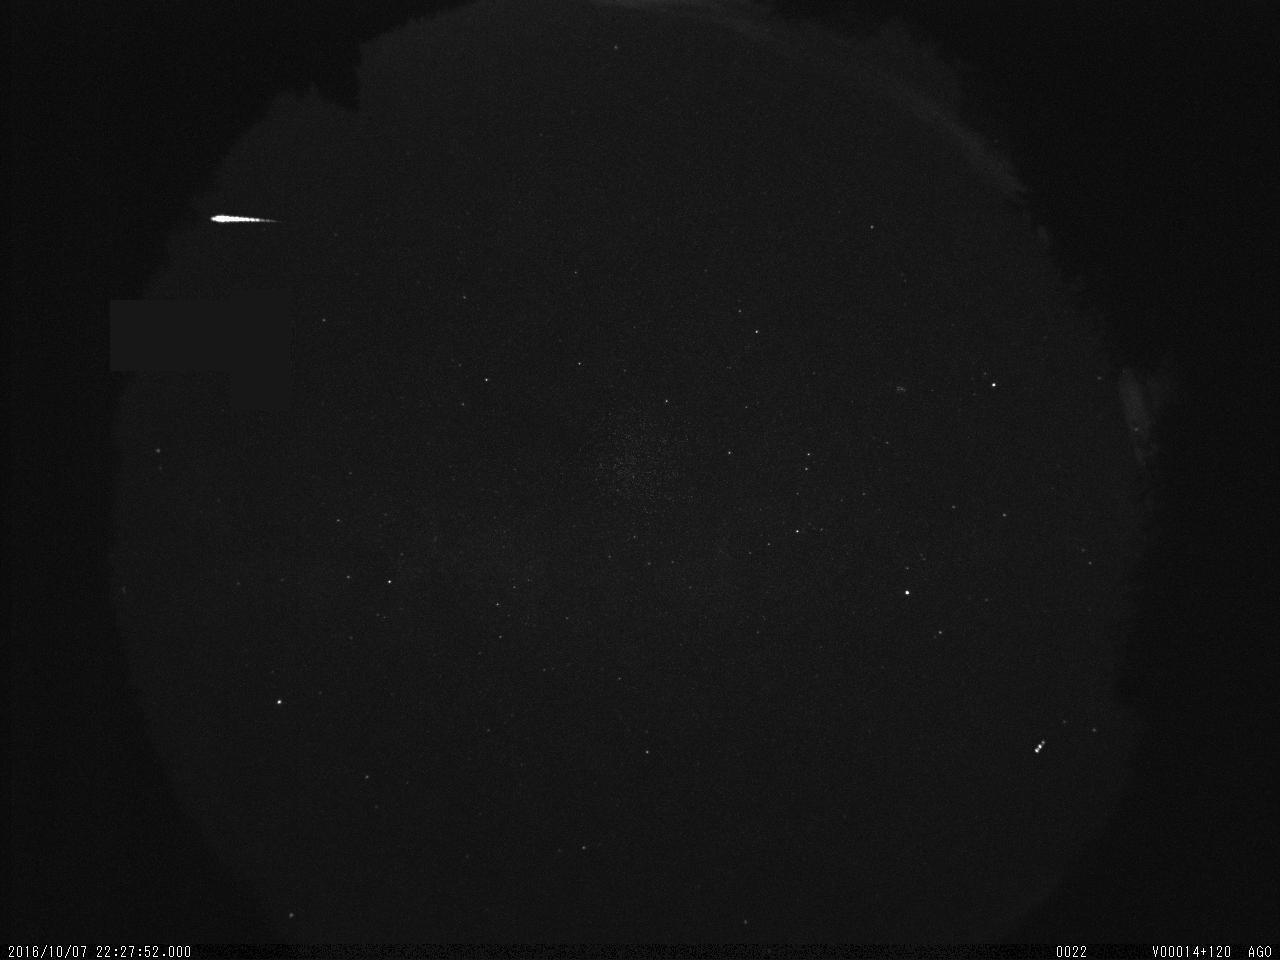meteor: (190, 198, 306, 250)
